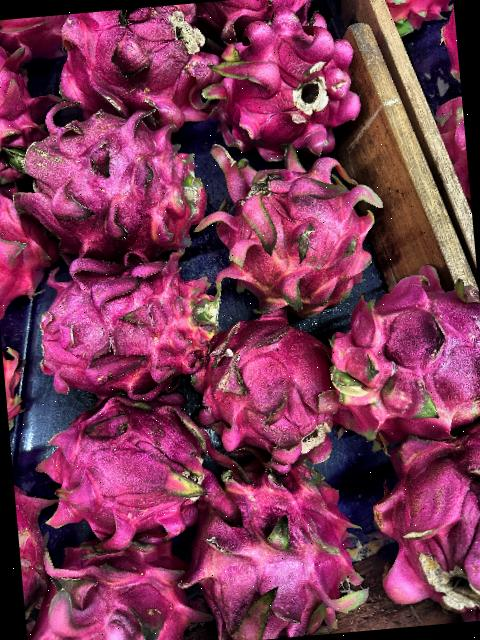buah-naga-matang: (182, 463, 369, 640), (35, 234, 232, 401), (9, 99, 210, 258), (206, 128, 382, 306), (27, 389, 212, 543), (327, 262, 480, 438), (199, 12, 366, 155), (192, 306, 339, 464), (368, 416, 480, 620), (50, 1, 222, 125), (39, 522, 211, 640), (0, 27, 64, 179), (0, 168, 51, 302)
